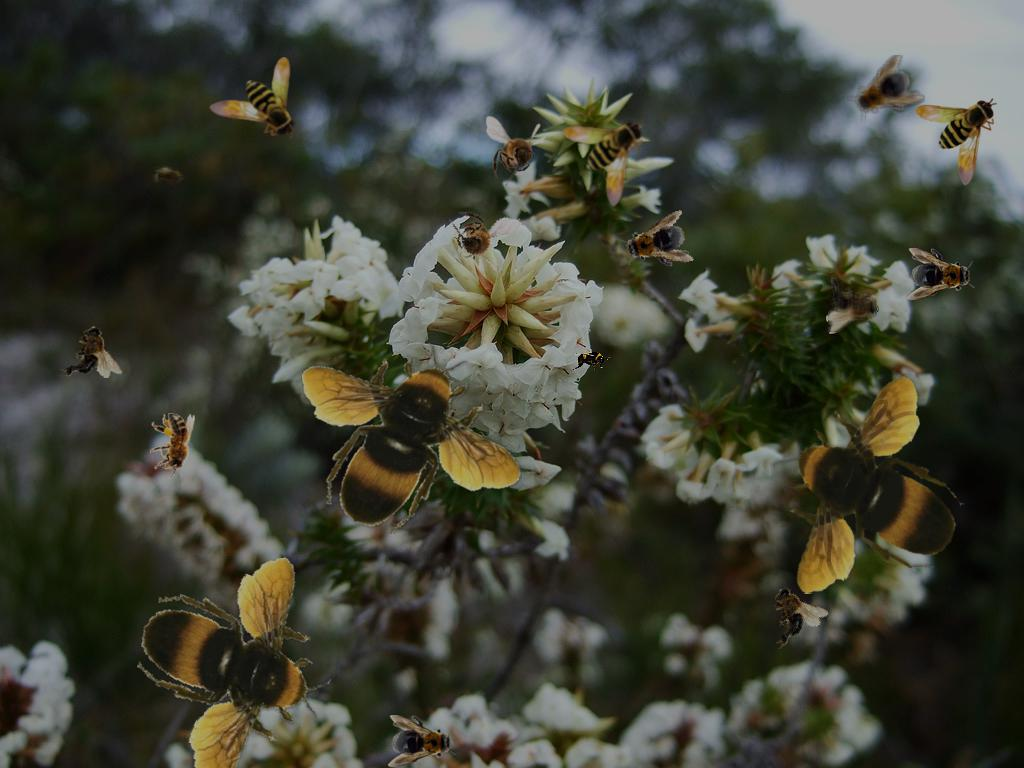Bee: (125, 553, 343, 768), (773, 374, 964, 594), (302, 343, 522, 534), (915, 98, 997, 186), (563, 119, 645, 207), (209, 57, 297, 139), (435, 200, 522, 280), (841, 53, 927, 133), (749, 573, 832, 653), (616, 209, 696, 279), (486, 116, 547, 186), (57, 323, 122, 381), (388, 715, 456, 767), (907, 248, 975, 300), (826, 272, 879, 334), (150, 413, 195, 479), (147, 163, 191, 191), (571, 349, 611, 371)
